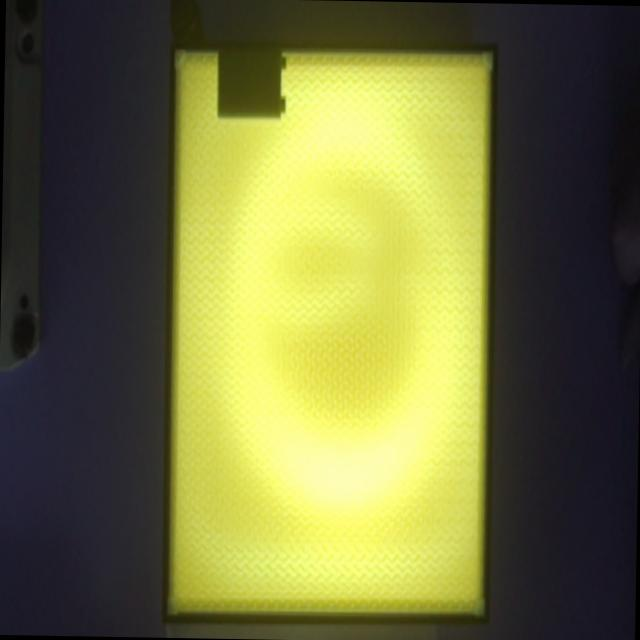bateria: (217, 48, 285, 119)
mesa: (161, 38, 498, 625)
